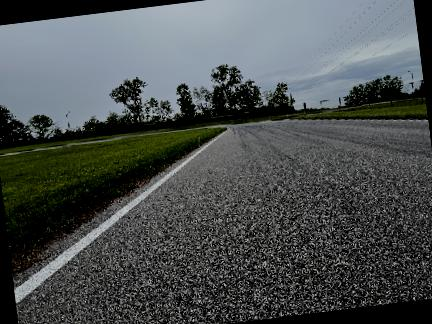Grass: (0, 128, 224, 281), (295, 104, 427, 119)
Lane: (16, 120, 431, 323)
